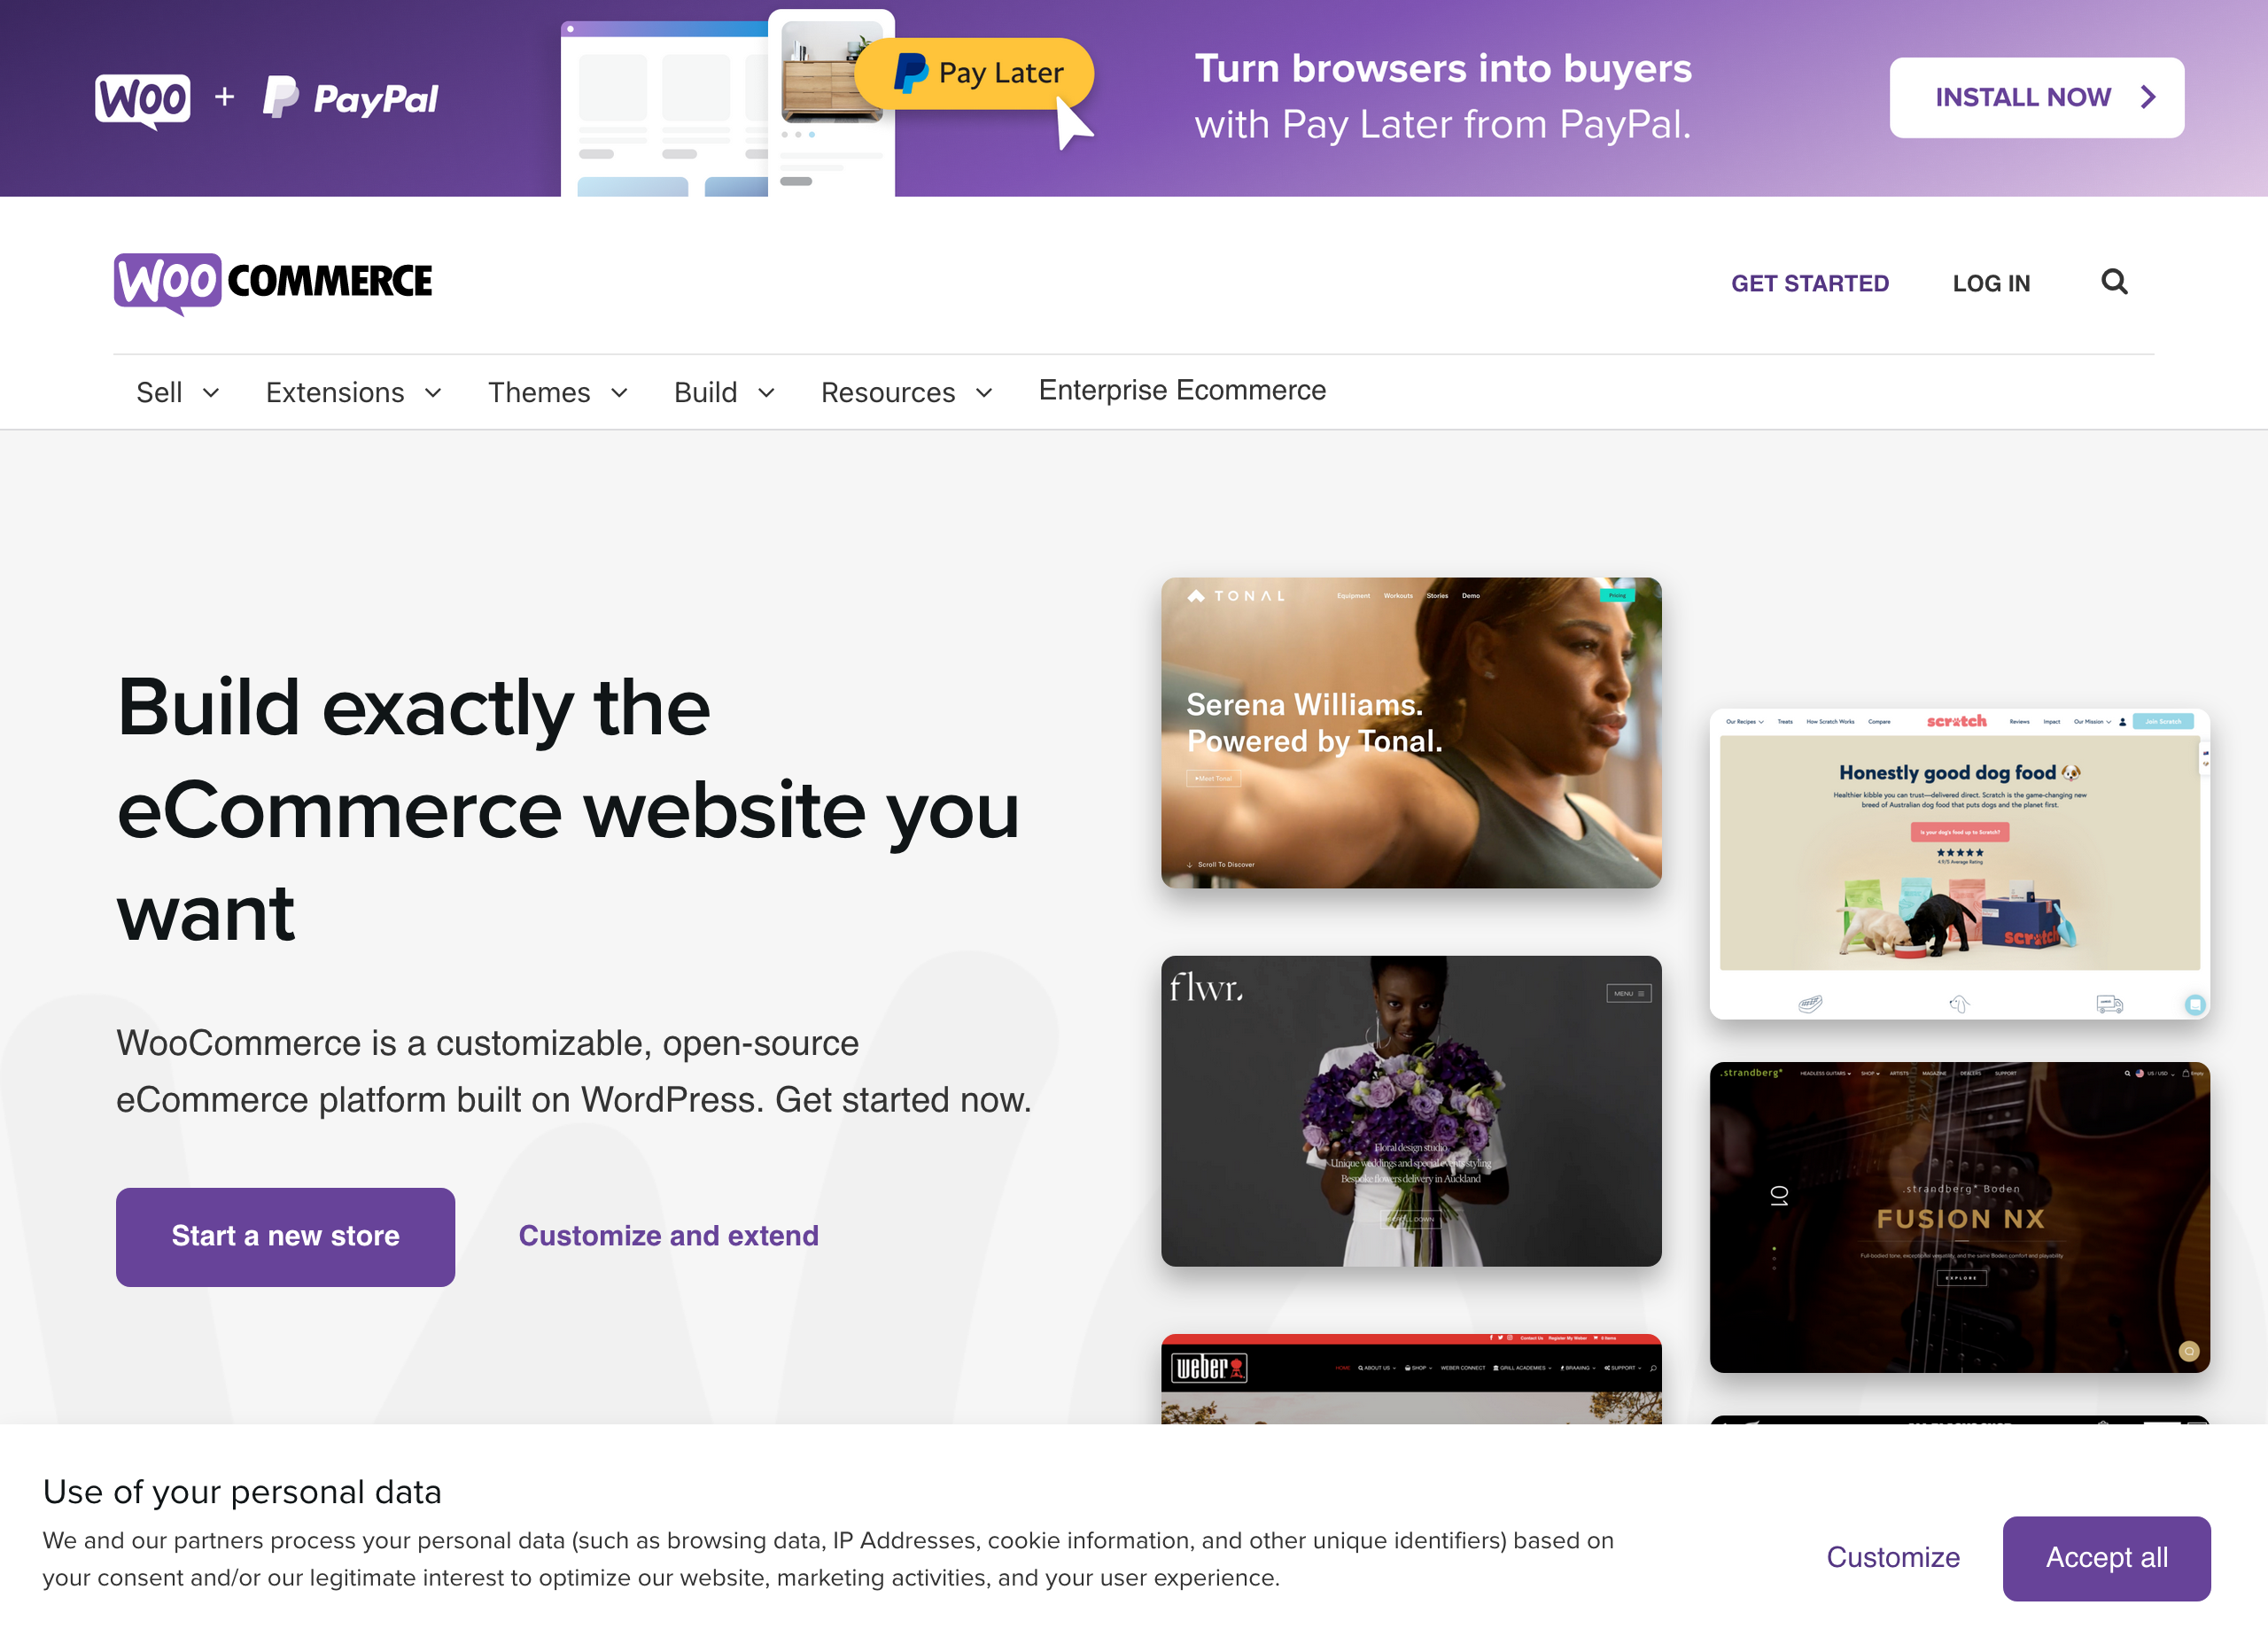Login: (1940, 250, 2046, 313)
